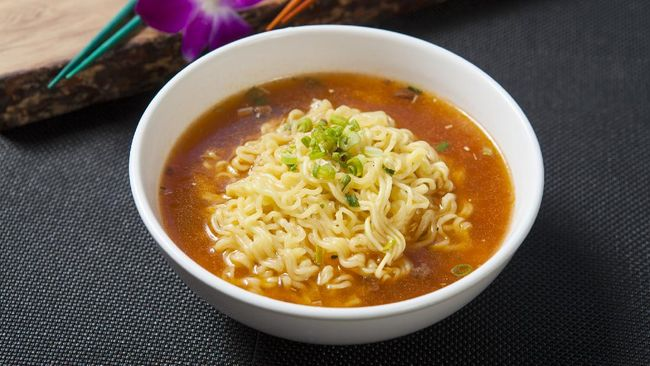Mie: (181, 98, 445, 331)
